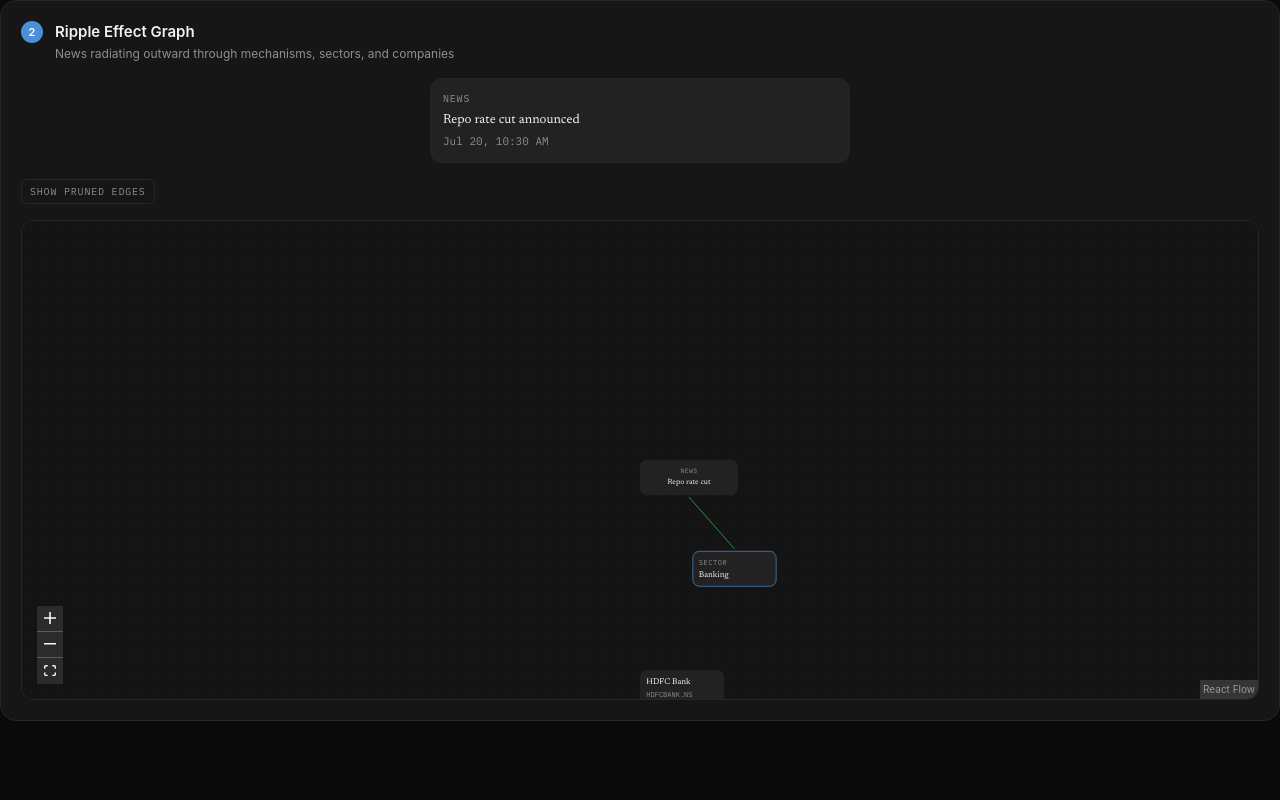
Test: RippleGraph › opens the ReasoningPanel when a company node is tapped
What coordinates should you click on to do the following:
click the text "HDFCBANK.NS"
I would click on:
 (669, 694)
Its box is [646,688,692,699].
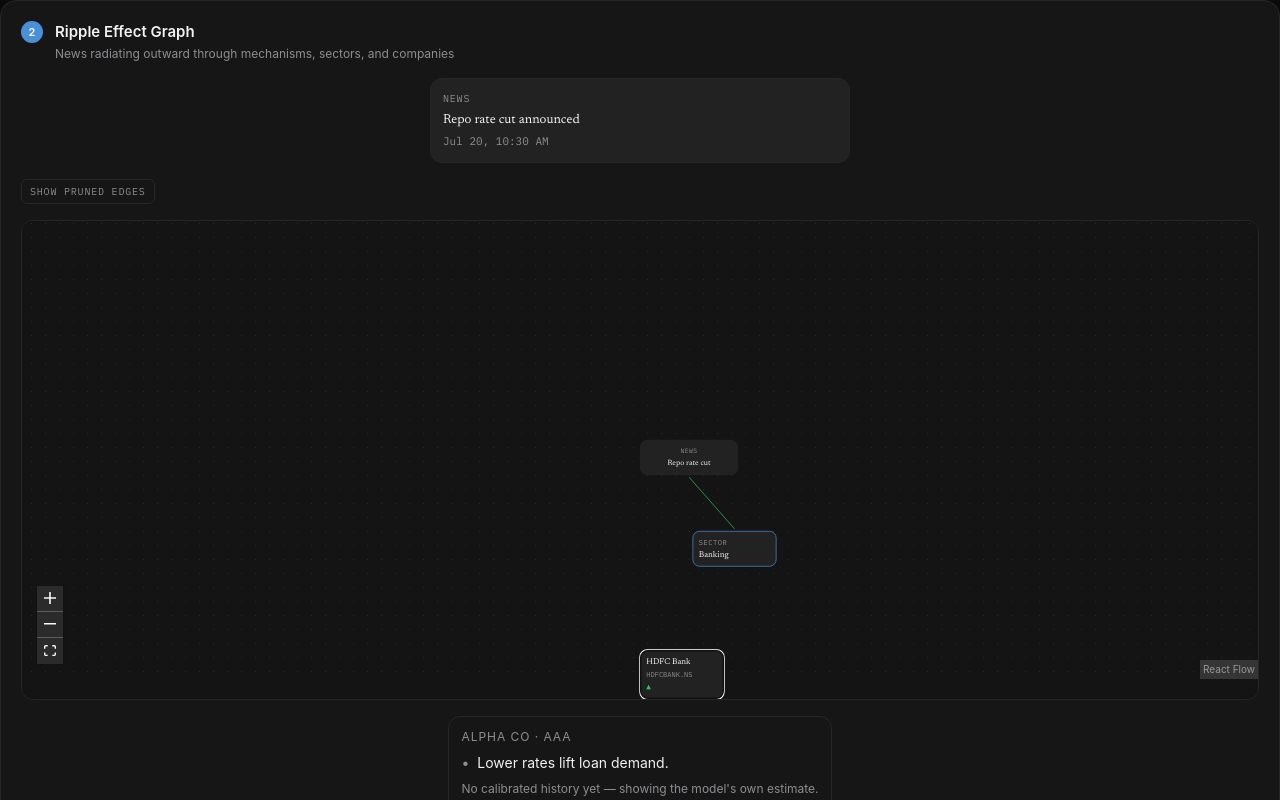
expect the text "Lower rates lift loan demand." is shown: met, box [477,752,669,772]
